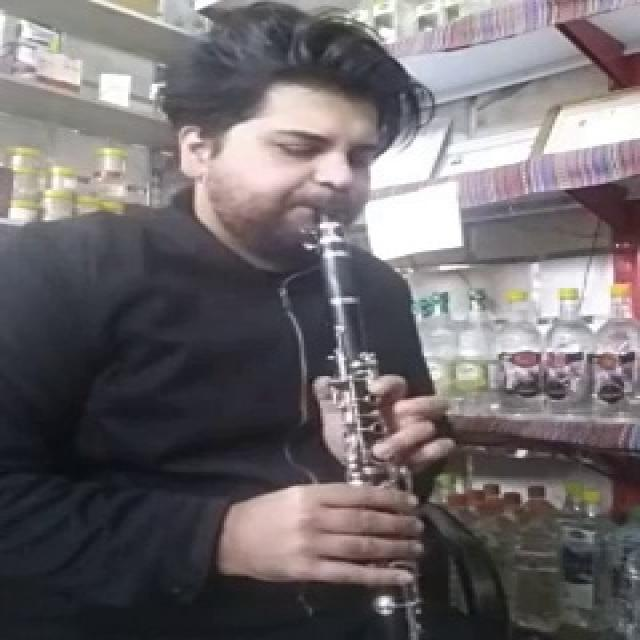Clarinet: (287, 198, 455, 639)
